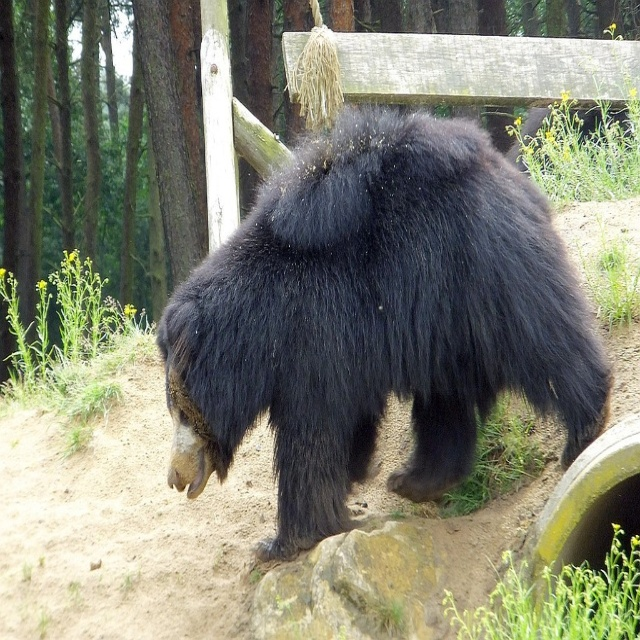Bear: (156, 102, 614, 563)
